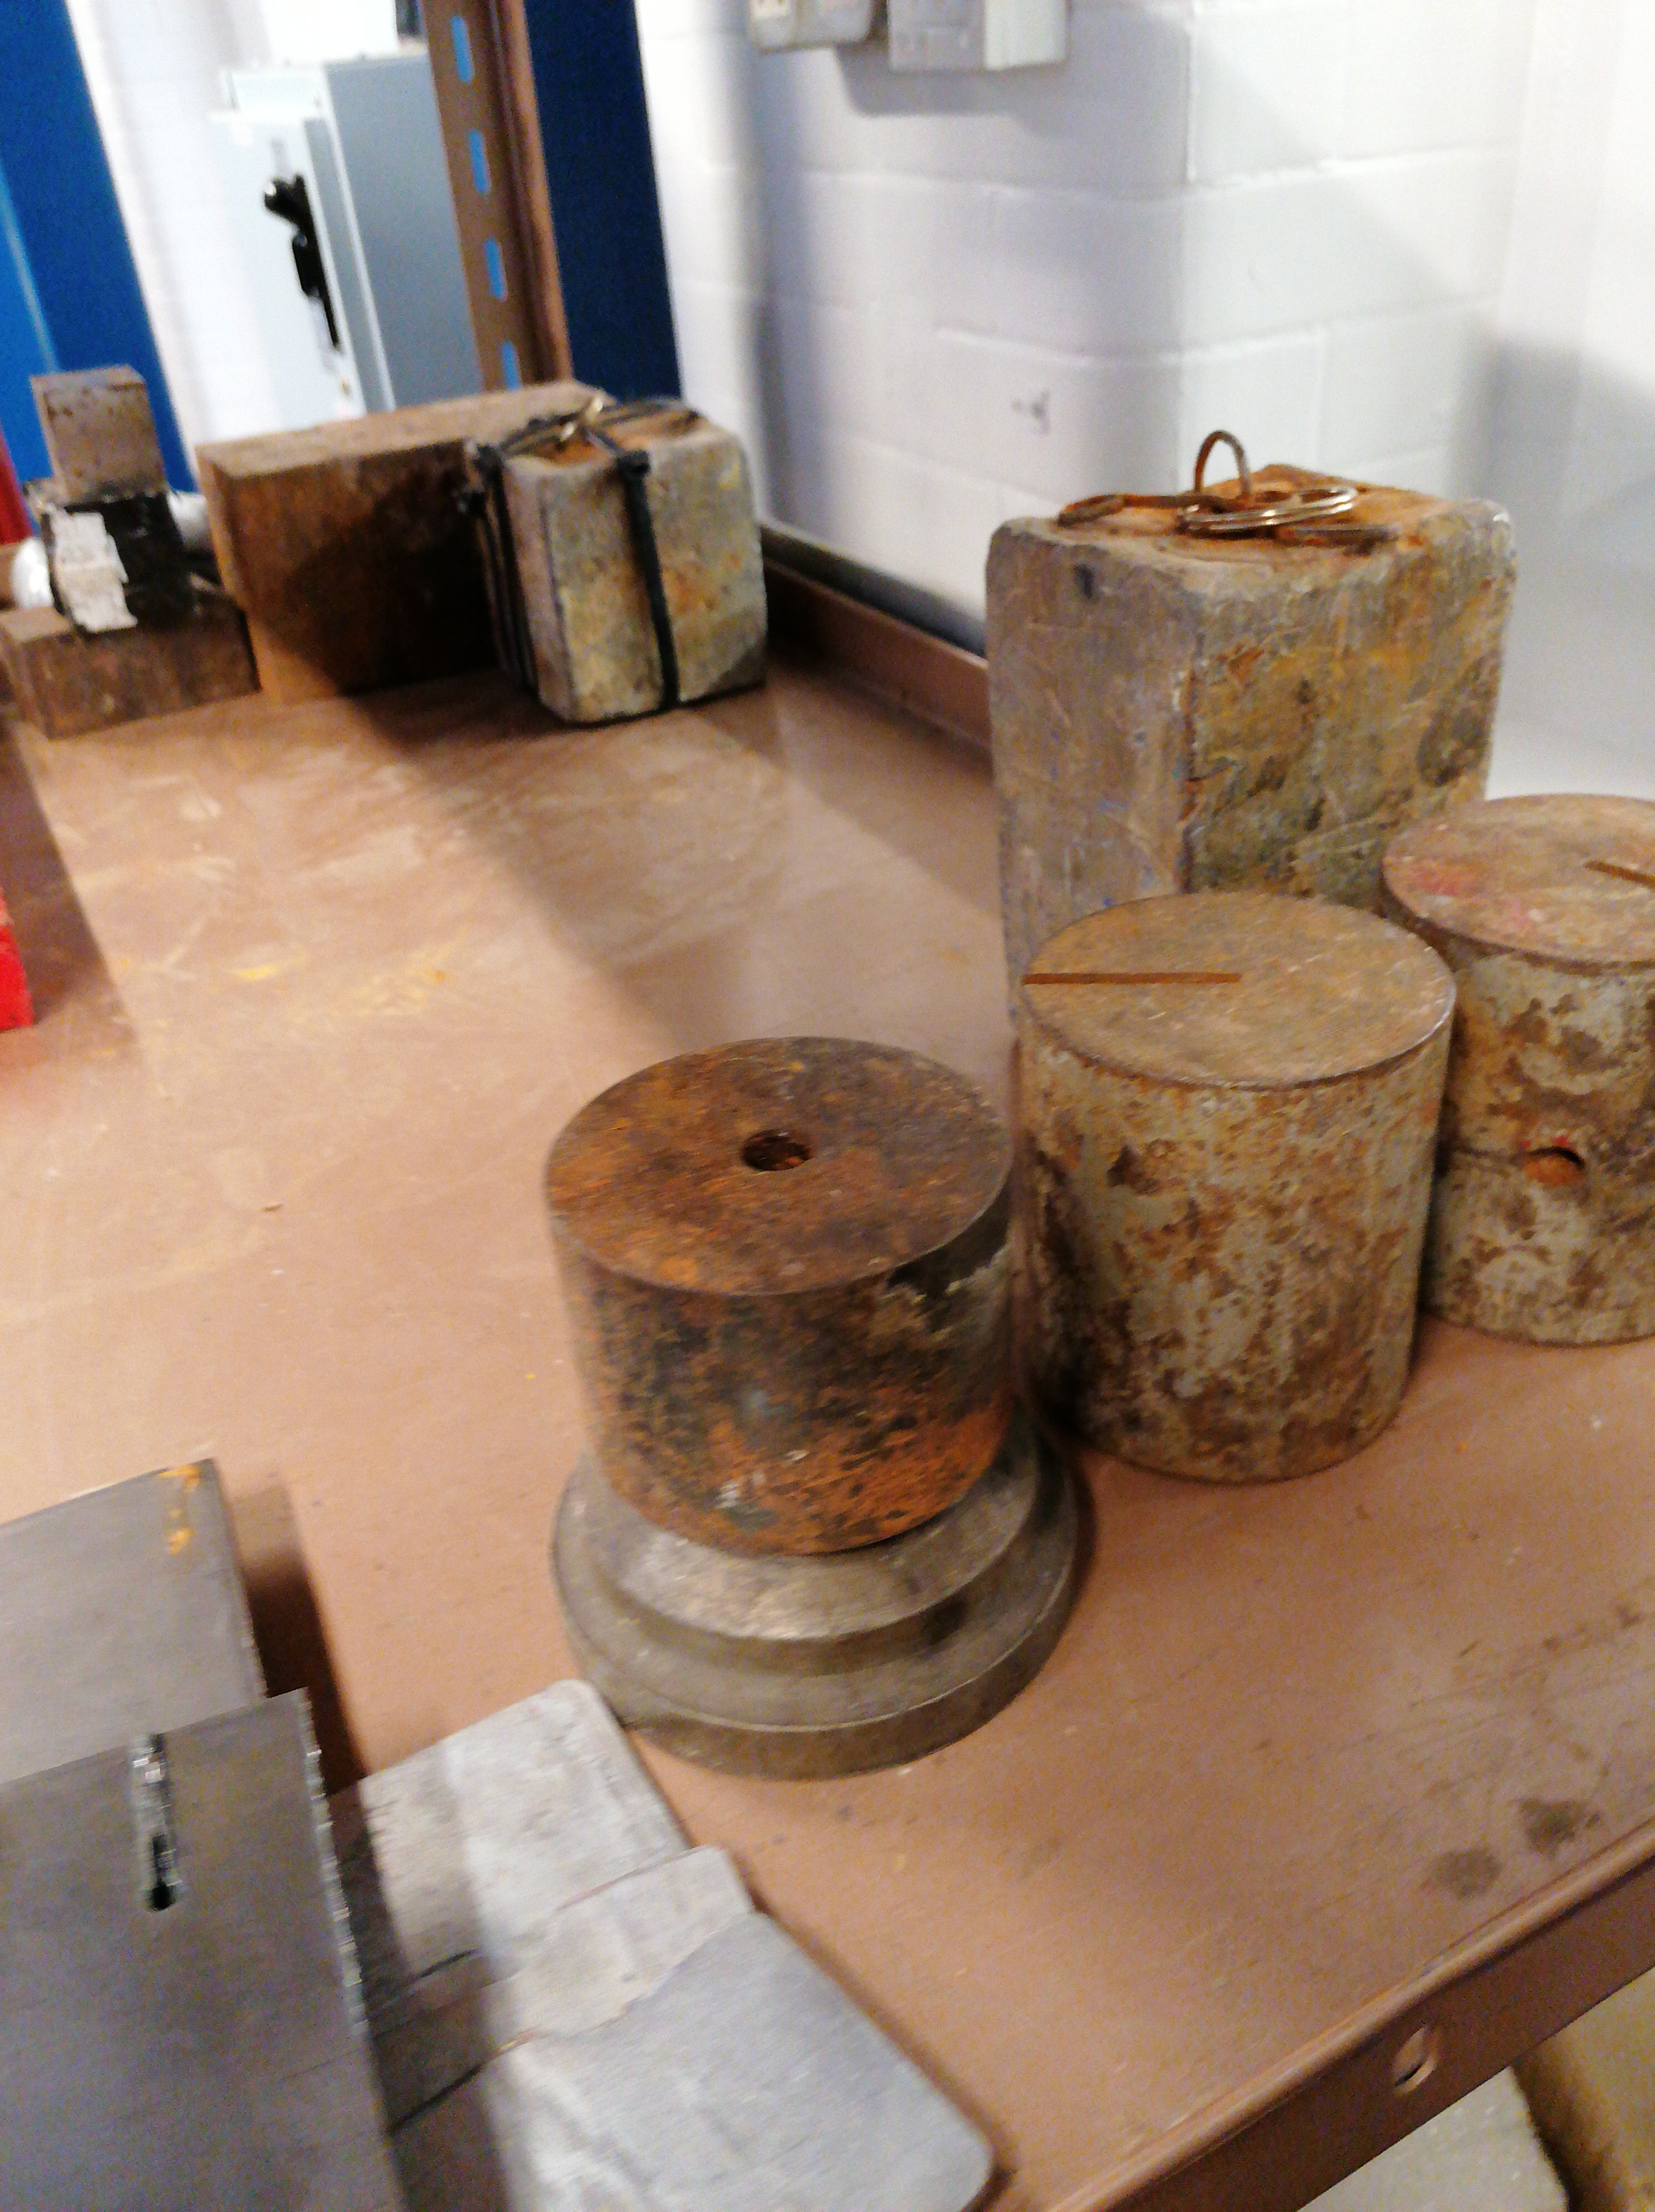lead_block: (544, 1034, 1092, 1783), (1010, 881, 1453, 1486), (986, 426, 1519, 923), (1380, 791, 1655, 1343), (195, 377, 614, 704), (454, 396, 775, 725), (0, 584, 261, 740), (24, 365, 165, 497)
